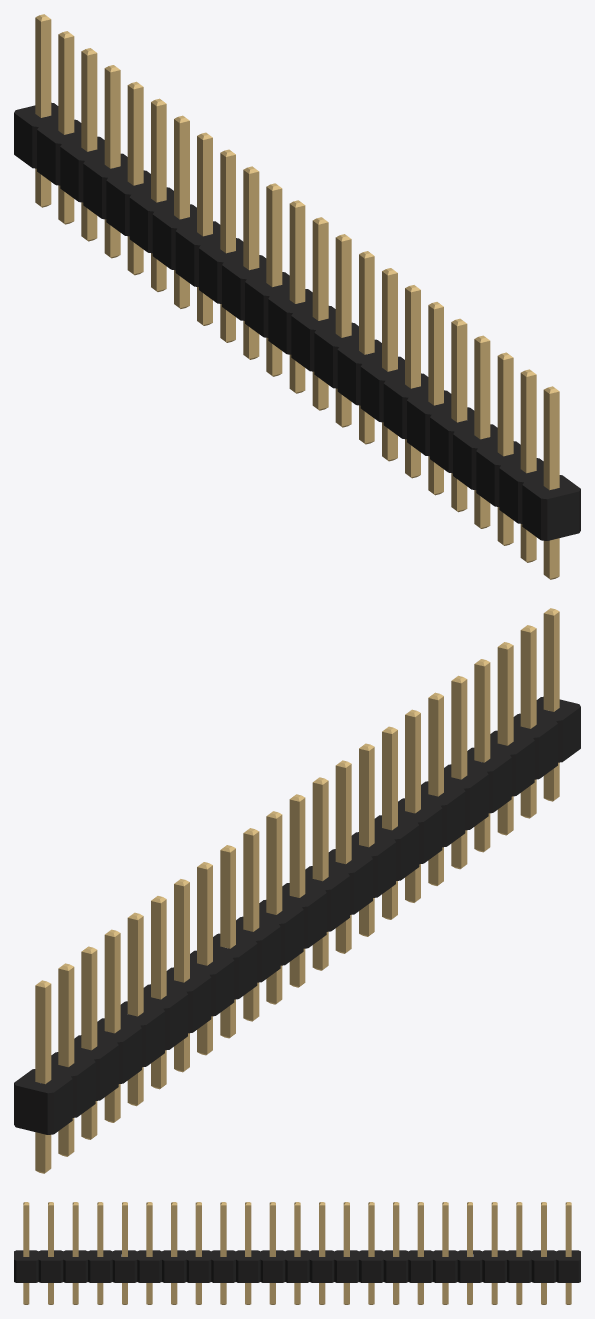
File: kc-pinheader_1x23_p2.54mm_vertical.glb
3 renders of one model, top to bottom at view 1: azimuth 30°, elevation 25°; view 2: azimuth 150°, elevation 25°; view 3: azimuth 270°, elevation 25°, orthographic. The views are drawn at different scales.
Parts seen in each view (by area): view 1: 0.75_0.5_0.25_0.9, 0_0_0_0; view 2: 0.75_0.5_0.25_0.9, 0_0_0_0; view 3: 0_0_0_0, 0.75_0.5_0.25_0.9.
Part boxes in pixels (box(x1,y1,x2,y2)): 0.75_0.5_0.25_0.9: box(35, 14, 559, 579); 0_0_0_0: box(14, 102, 580, 540); 0.75_0.5_0.25_0.9: box(35, 608, 559, 1173); 0_0_0_0: box(14, 696, 580, 1134); 0_0_0_0: box(14, 1250, 580, 1282); 0.75_0.5_0.25_0.9: box(23, 1202, 571, 1304).
Bounding box in the file's own units: 0.2539 × 1.15 × 5.84.
